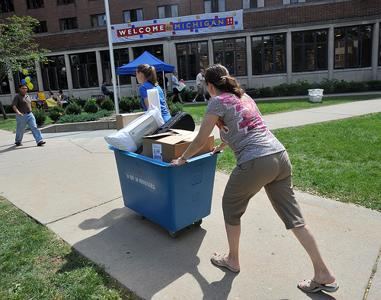person: (171, 62, 335, 293)
